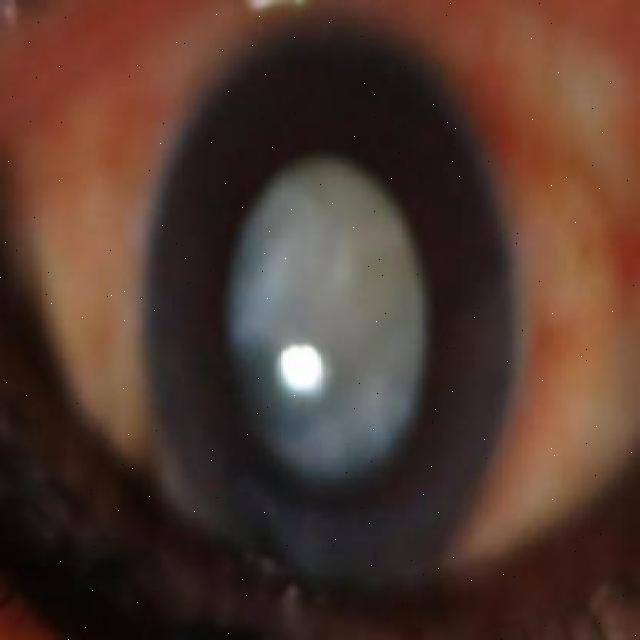Cataract: (145, 30, 514, 584)
